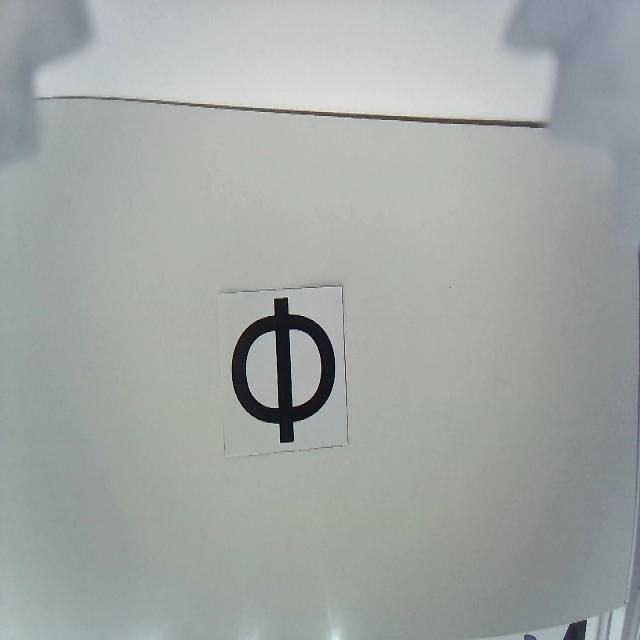F: (229, 295, 336, 447)
